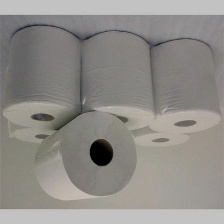tissue: (29, 106, 142, 205), (0, 20, 87, 133), (73, 26, 158, 133), (142, 33, 224, 140), (7, 117, 66, 149), (129, 124, 195, 150)
